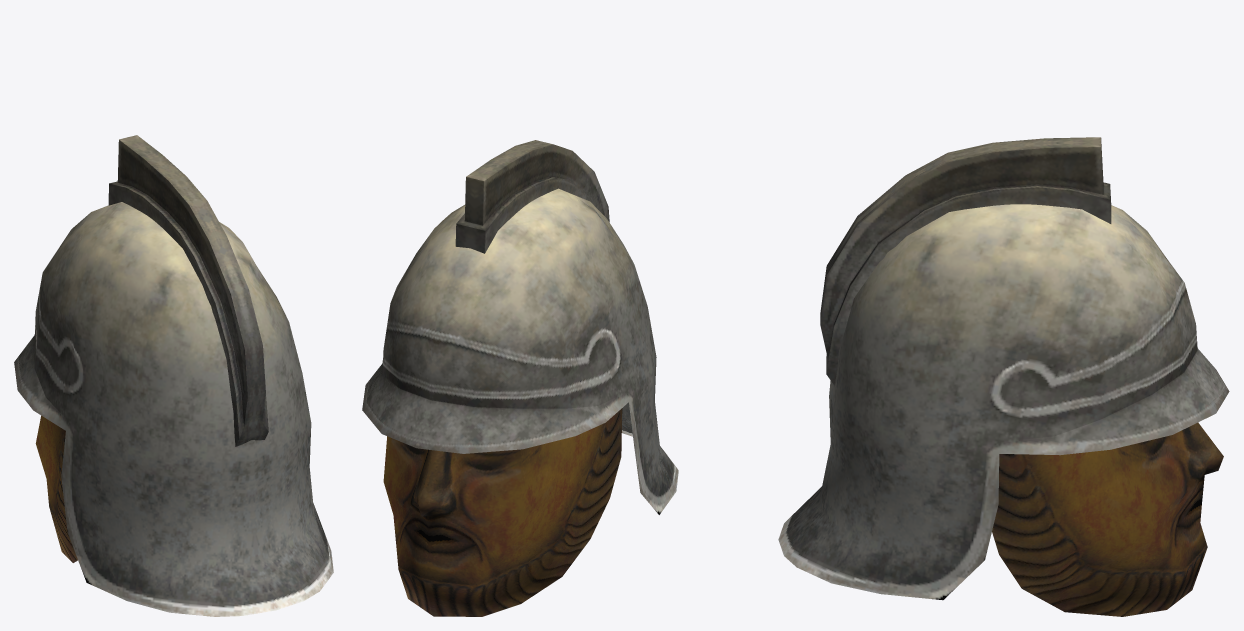
File: helm_hele_thracian_romanized_s2_crested.glb
The picture shows the model from 3 angles, left to right: view 1: azimuth 30°, elevation 25°; view 2: azimuth 150°, elevation 25°; view 3: azimuth 270°, elevation 25°; orthographic projection. The views are drawn at different scales.
Parts seen in each view (by area): view 1: helm_hele_thracian_romanized_s2_crested_part0, helm_hele_thracian_romanized_s2_crested_part2, helm_hele_thracian_romanized_s2_crested_part1; view 2: helm_hele_thracian_romanized_s2_crested_part0, helm_hele_thracian_romanized_s2_crested_part1, helm_hele_thracian_romanized_s2_crested_part2; view 3: helm_hele_thracian_romanized_s2_crested_part0, helm_hele_thracian_romanized_s2_crested_part1, helm_hele_thracian_romanized_s2_crested_part2.
Boxes of the visible parts, x1,y1,x2,y2 form: helm_hele_thracian_romanized_s2_crested_part0: (14, 202, 333, 616); helm_hele_thracian_romanized_s2_crested_part2: (108, 135, 268, 446); helm_hele_thracian_romanized_s2_crested_part1: (35, 415, 77, 562); helm_hele_thracian_romanized_s2_crested_part0: (362, 188, 678, 514); helm_hele_thracian_romanized_s2_crested_part1: (383, 408, 622, 616); helm_hele_thracian_romanized_s2_crested_part2: (455, 140, 609, 253); helm_hele_thracian_romanized_s2_crested_part0: (778, 204, 1229, 600); helm_hele_thracian_romanized_s2_crested_part1: (992, 422, 1223, 616); helm_hele_thracian_romanized_s2_crested_part2: (820, 137, 1111, 385).
Size of the model in its own units: 0.4644 by 1.03 by 0.8465.
Materials: 4 (4 with a texture image).
